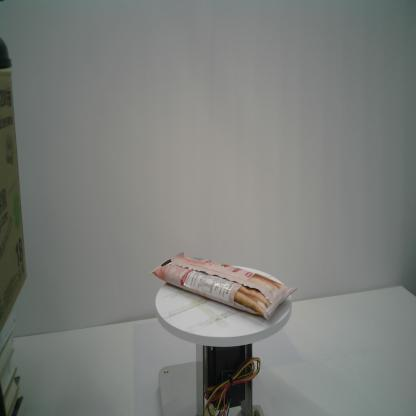Dessert: (148, 250, 300, 320)
